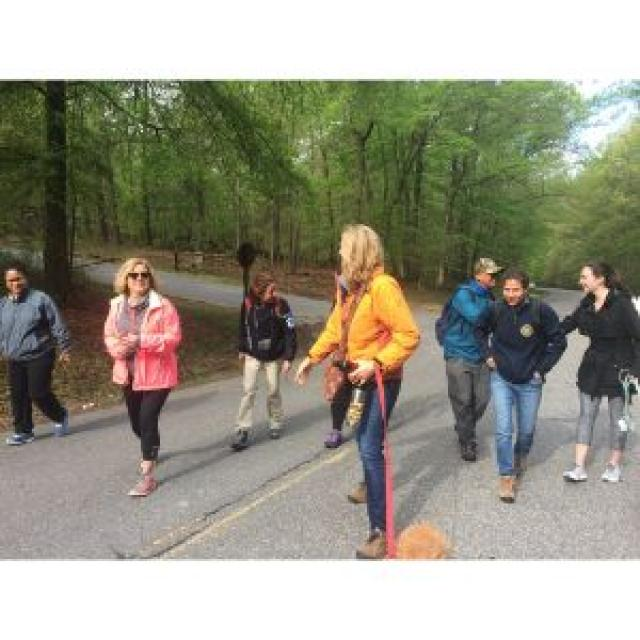nonfall: (323, 226, 431, 548), (106, 252, 196, 502), (568, 256, 636, 494), (0, 260, 77, 452), (489, 274, 546, 504), (232, 265, 295, 458), (442, 250, 501, 454)
